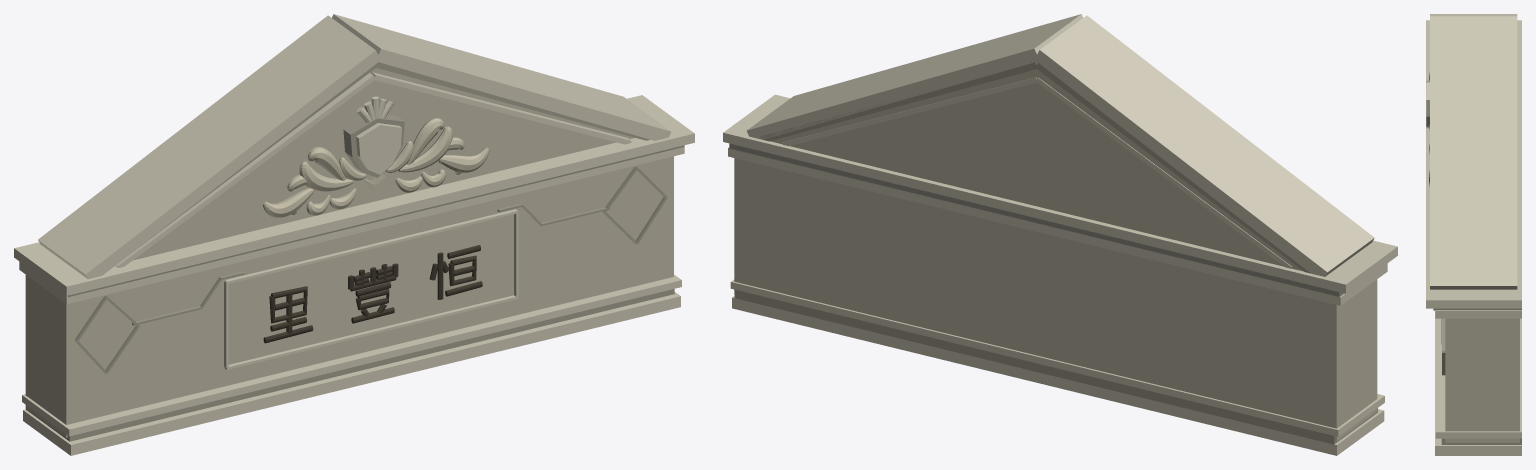
The model's file is hongkou-xin-hengfengli-pediment-raw.glb.
3 renders of one model, left to right at view 1: azimuth 30°, elevation 25°; view 2: azimuth 150°, elevation 25°; view 3: azimuth 270°, elevation 25°, orthographic. The views are drawn at different scales.
Visible parts, largest first — view 1: 新恒丰里山阴路85弄门楼题额与盾饰山花; view 2: 新恒丰里山阴路85弄门楼题额与盾饰山花; view 3: 新恒丰里山阴路85弄门楼题额与盾饰山花.
Part boxes in pixels (<box>): 新恒丰里山阴路85弄门楼题额与盾饰山花: <box>14,14,694,455</box>; 新恒丰里山阴路85弄门楼题额与盾饰山花: <box>723,14,1397,455</box>; 新恒丰里山阴路85弄门楼题额与盾饰山花: <box>1426,14,1521,455</box>.
Bounding box in the file's own units: 4.88 × 2.48 × 0.707.
